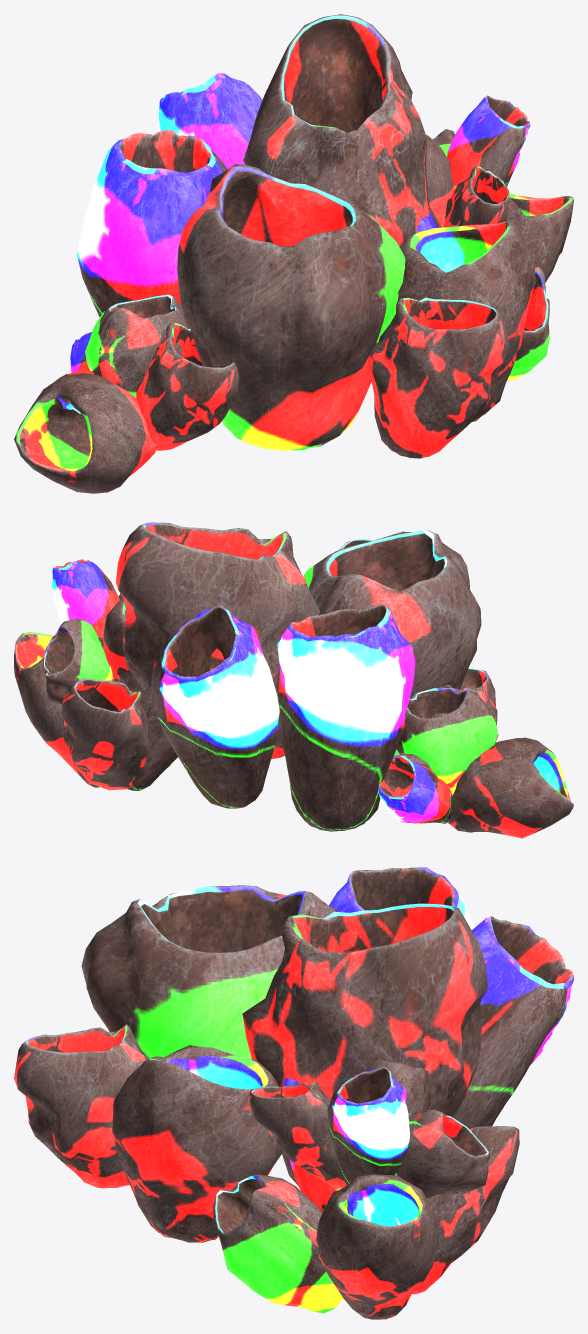
File: SM_Barnacle_D_03.fbx
The picture shows the model from 3 angles, top to bottom: view 1: azimuth 30°, elevation 25°; view 2: azimuth 150°, elevation 25°; view 3: azimuth 270°, elevation 25°; orthographic projection. The views are drawn at different scales.
Visible parts, largest first — view 1: SM_Barnacle_D_03_LOD0; view 2: SM_Barnacle_D_03_LOD0; view 3: SM_Barnacle_D_03_LOD0.
Boxes of the visible parts, bbox=[...] form: SM_Barnacle_D_03_LOD0: bbox=[14, 14, 573, 493]; SM_Barnacle_D_03_LOD0: bbox=[14, 522, 573, 838]; SM_Barnacle_D_03_LOD0: bbox=[14, 867, 573, 1319].
Bounding box in the file's own units: 164 × 128 × 89.37.
1 material, 1 textured.
